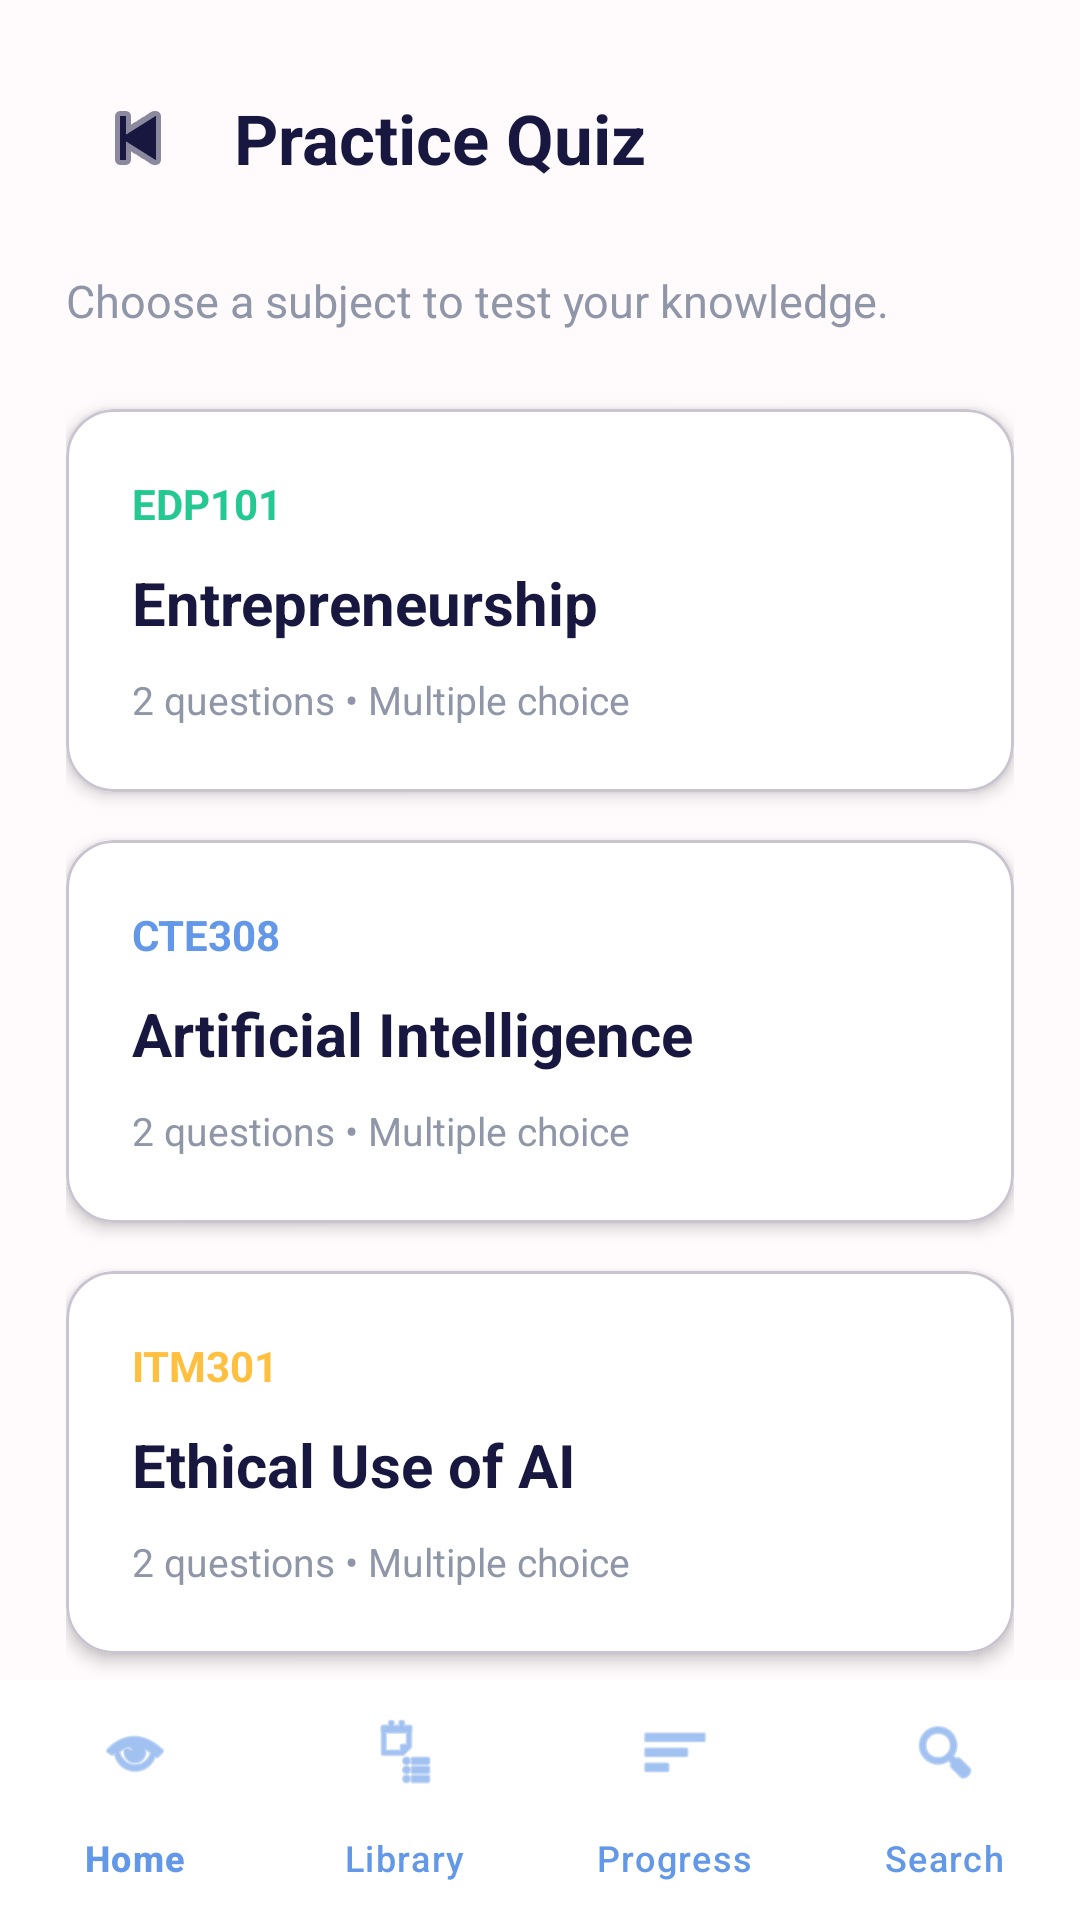

Icons on this 1080x1920 Android screen, each with its box as (x1=x1, y1=y1, x2=x2, y2=y2):
Go back: (x1=115, y1=111, x2=161, y2=165)
